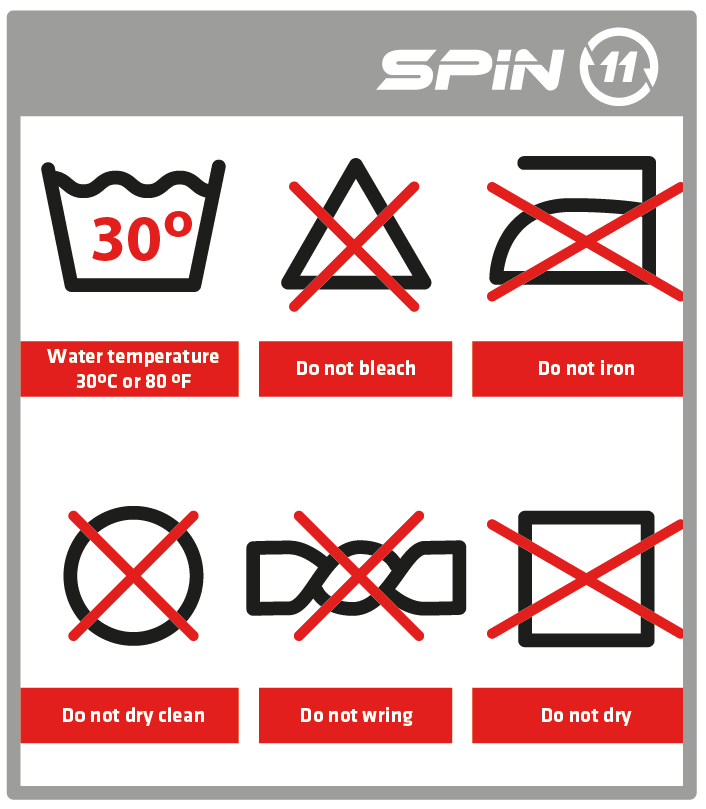do_not_bleach: (277, 158, 431, 313)
do_not_dry_clean: (60, 507, 205, 647)
do_not_iron: (489, 154, 682, 306)
